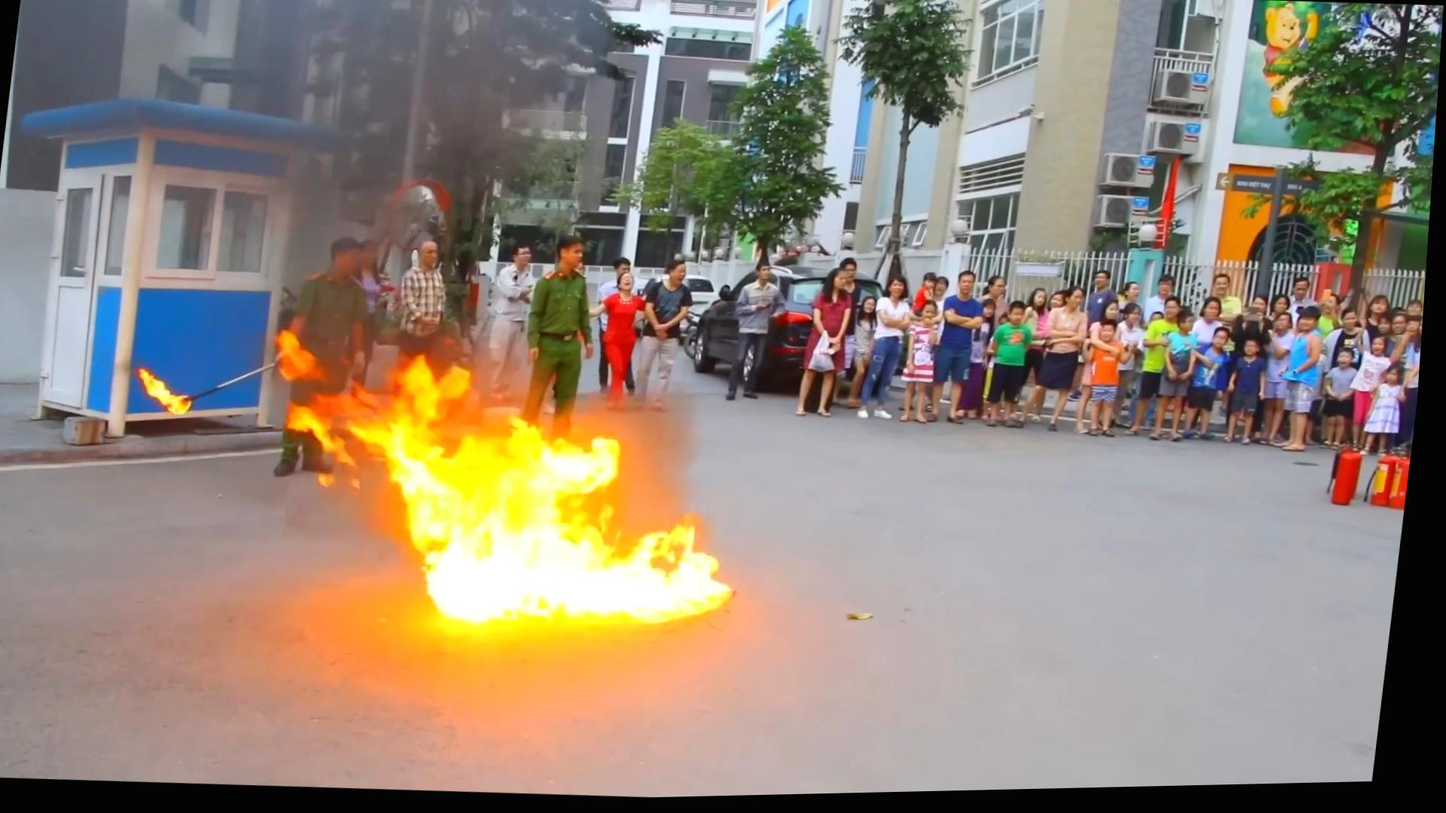FireExtinguisher: (1326, 453, 1372, 514), (1378, 452, 1418, 516)
